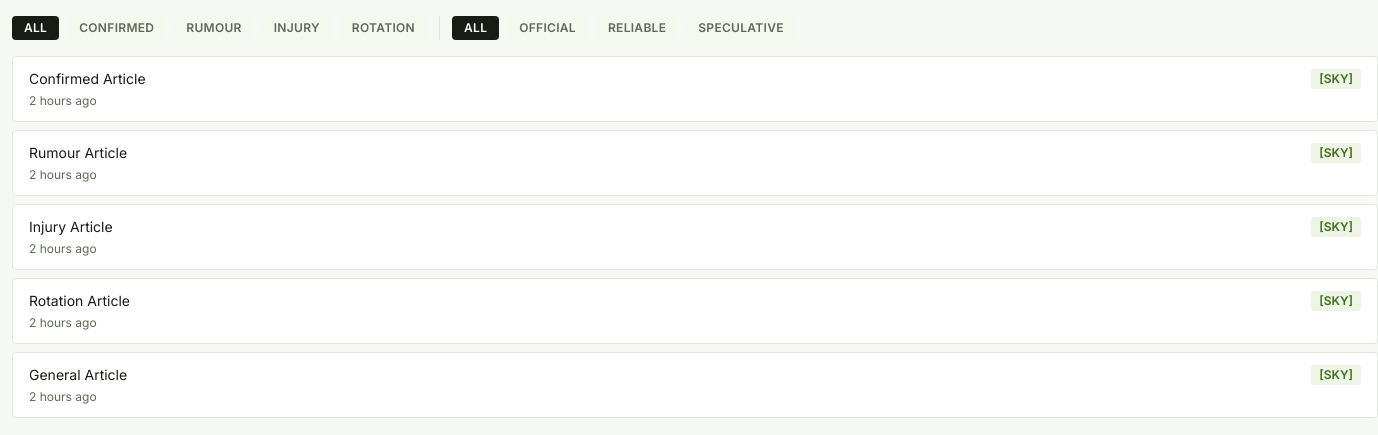
SummerWindowTab — Phase 125 WIN-01 › Test 3 — clicking Confirmed pill filters articles to confirmed_signing only
Click the tab "Confirmed".
click(117, 28)  # box [67,16,166,40]
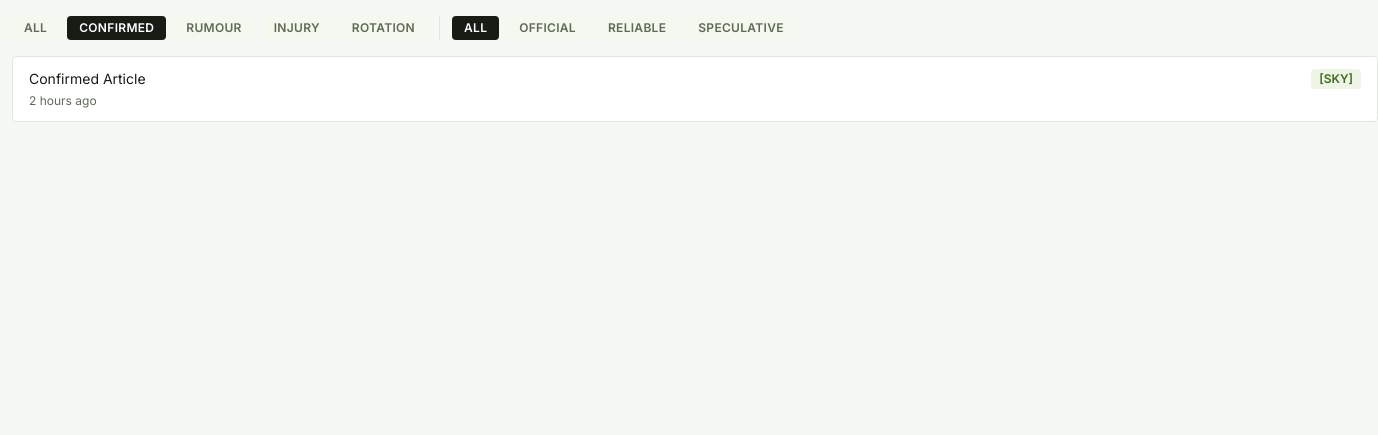
Expected: the link "Rumour Article" is gone
Expected: the link "Injury Article" is gone
Expected: the link "Rotation Article" is gone
